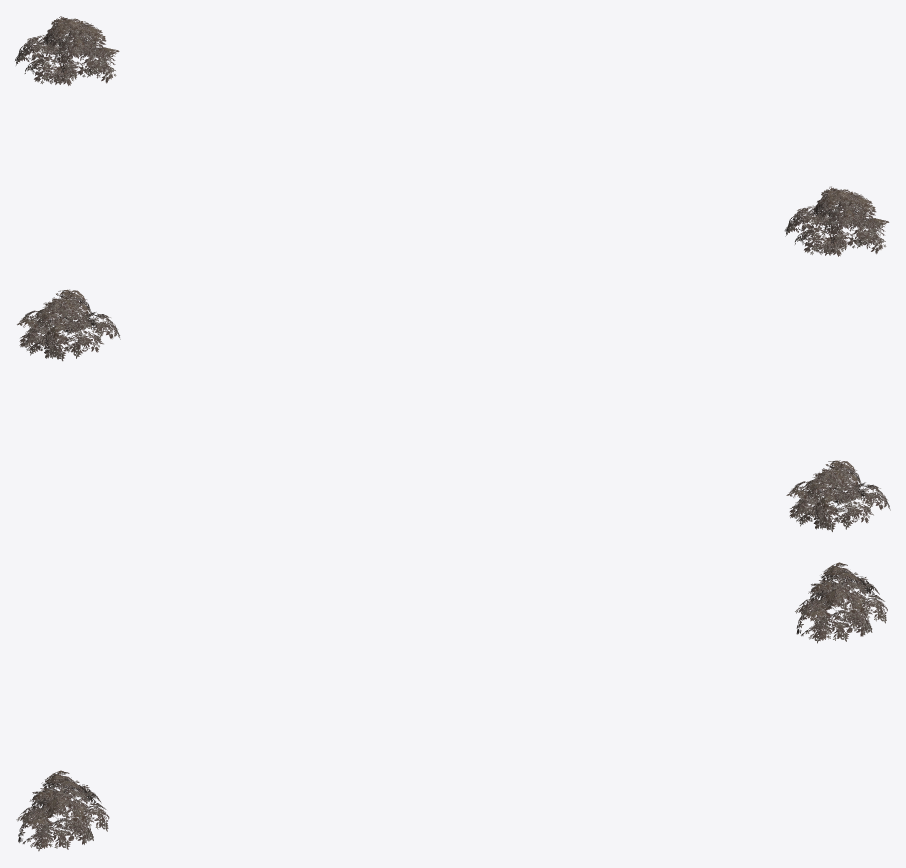
Rendered from Area13_22.fbx.
3 renders of one model, top to bottom at view 1: azimuth 30°, elevation 25°; view 2: azimuth 210°, elevation 25°; view 3: azimuth 270°, elevation 25°, orthographic. The views are drawn at different scales.
Parts seen in each view (by area): view 1: Area13_22; view 2: Area13_22; view 3: Area13_22.
Part boxes in pixels (<box>): Area13_22: <box>15,16,889,256</box>; Area13_22: <box>17,289,890,531</box>; Area13_22: <box>16,562,887,851</box>.
Bounding box in the file's own units: 2259 × 263 × 3317.
